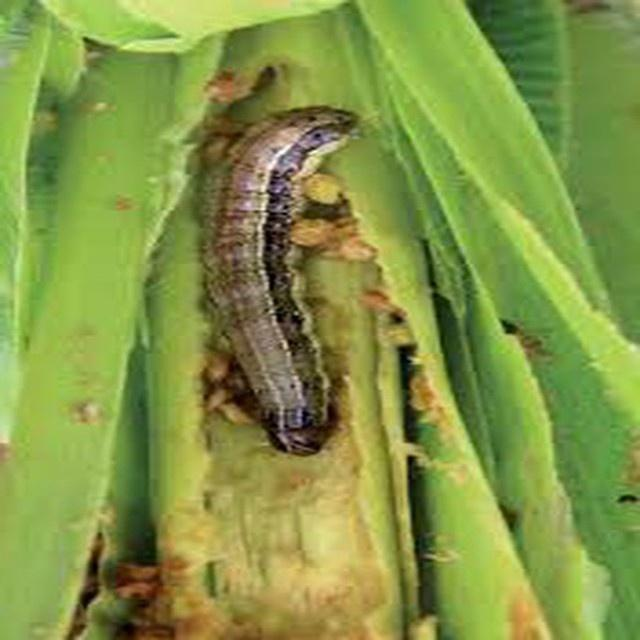gusano_cogollero: (208, 101, 358, 452)
